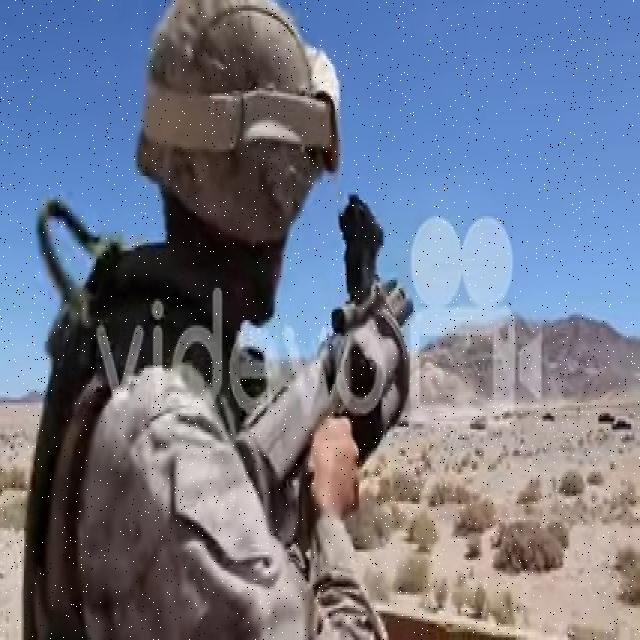bazooka: (241, 189, 425, 516)
